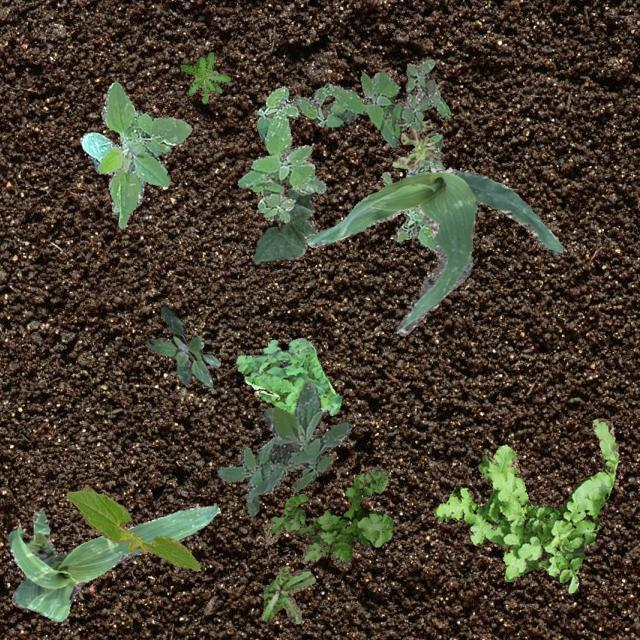crop: (304, 166, 562, 334), (8, 504, 220, 620), (78, 80, 190, 228), (66, 486, 200, 570), (252, 188, 316, 264)
weed: (434, 416, 616, 592), (216, 380, 350, 514), (292, 58, 449, 146), (262, 468, 392, 566), (236, 86, 324, 222), (234, 336, 340, 414), (380, 134, 446, 250), (144, 306, 220, 386), (260, 566, 314, 622), (180, 51, 230, 102), (392, 120, 436, 168)
